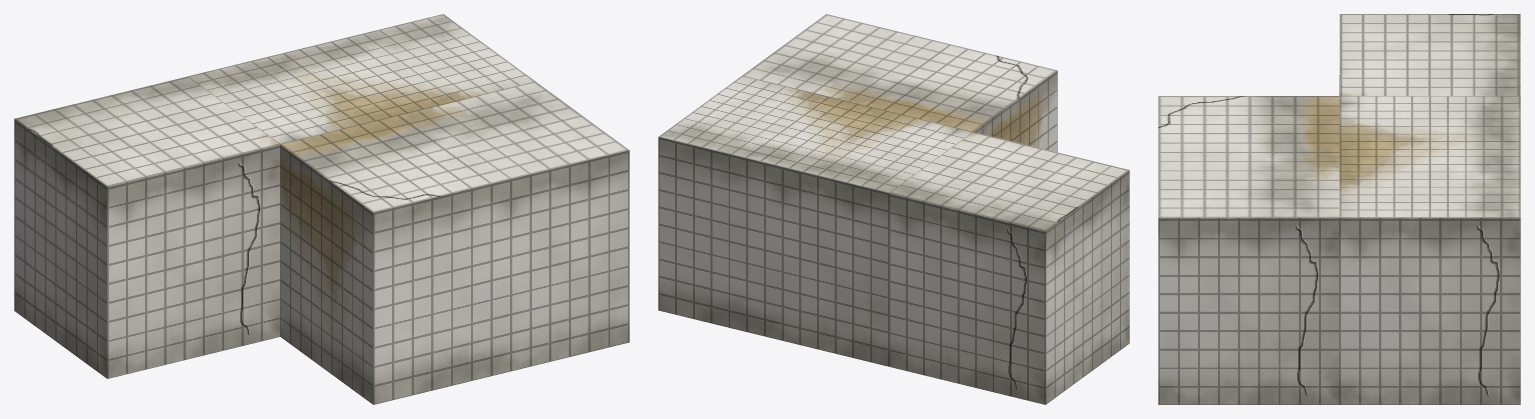
The model's file is CasaLPequena 1.fbx.
3 renders of one model, left to right at view 1: azimuth 30°, elevation 25°; view 2: azimuth 150°, elevation 25°; view 3: azimuth 270°, elevation 25°, orthographic. The views are drawn at different scales.
Parts seen in each view (by area): view 1: CasaLPequena; view 2: CasaLPequena; view 3: CasaLPequena.
Boxes of the visible parts, x1=… form: CasaLPequena: x1=14, y1=14, x2=629, y2=404; CasaLPequena: x1=658, y1=14, x2=1129, y2=404; CasaLPequena: x1=1158, y1=14, x2=1520, y2=404.
Size of the model in its own units: 1610 by 689 by 1210.
